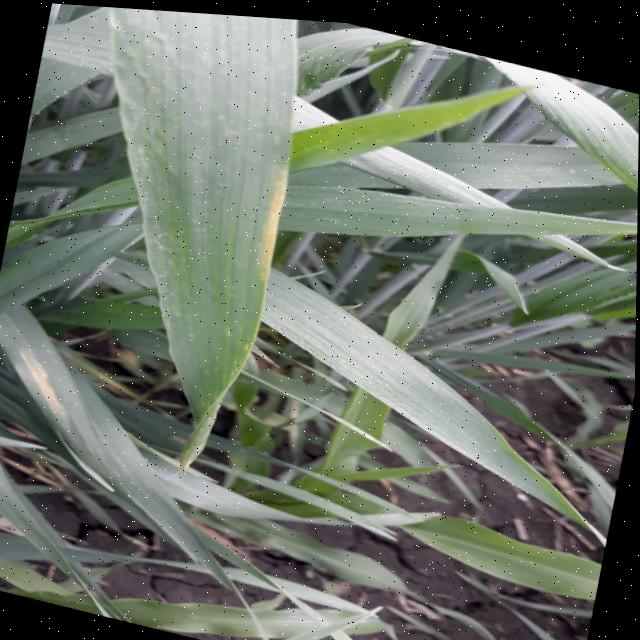yellow_rust: (37, 2, 334, 364), (0, 328, 239, 476), (0, 414, 98, 537)
